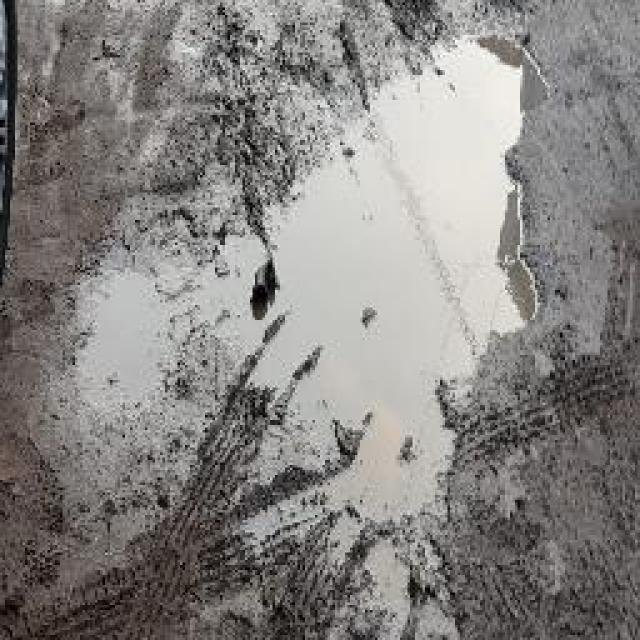puddle: (194, 31, 552, 514)
